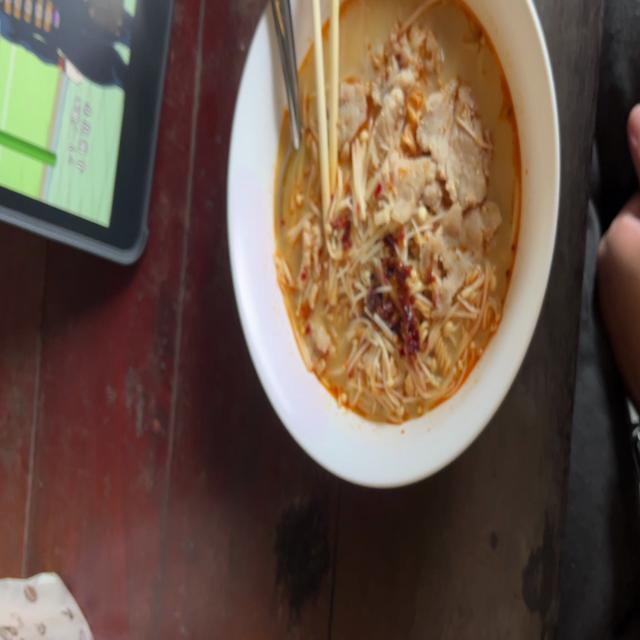noodle: (271, 0, 527, 436)
